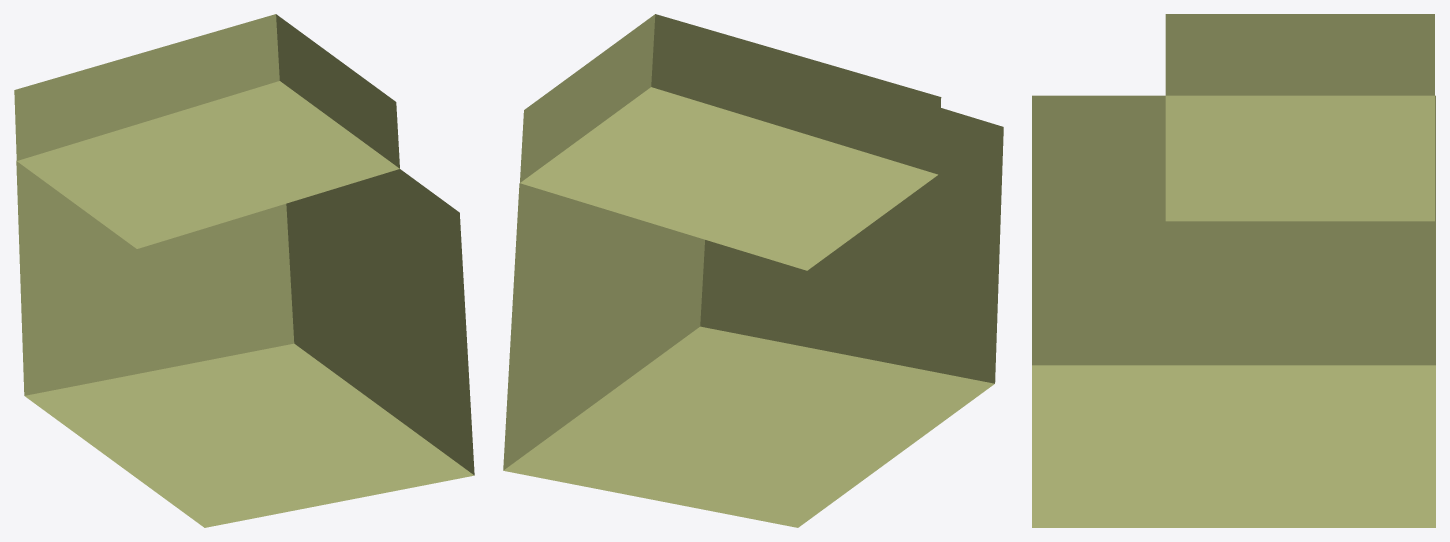
The picture shows the model from 3 angles, left to right: view 1: azimuth 30°, elevation 25°; view 2: azimuth 150°, elevation 25°; view 3: azimuth 270°, elevation 25°; orthographic projection. The views are drawn at different scales.
Parts seen in each view (by area): view 1: 0_1_1_3_3_1_3_1_1_1_0; view 2: 0_1_1_3_3_1_3_1_1_1_0; view 3: 0_1_1_3_3_1_3_1_1_1_0.
Part boxes in pixels (x1,y1,x2,y2): 0_1_1_3_3_1_3_1_1_1_0: (14, 14, 474, 527); 0_1_1_3_3_1_3_1_1_1_0: (503, 14, 1003, 527); 0_1_1_3_3_1_3_1_1_1_0: (1032, 14, 1435, 527).
Bounding box in the file's own units: 8.08 × 9.21 × 9.
